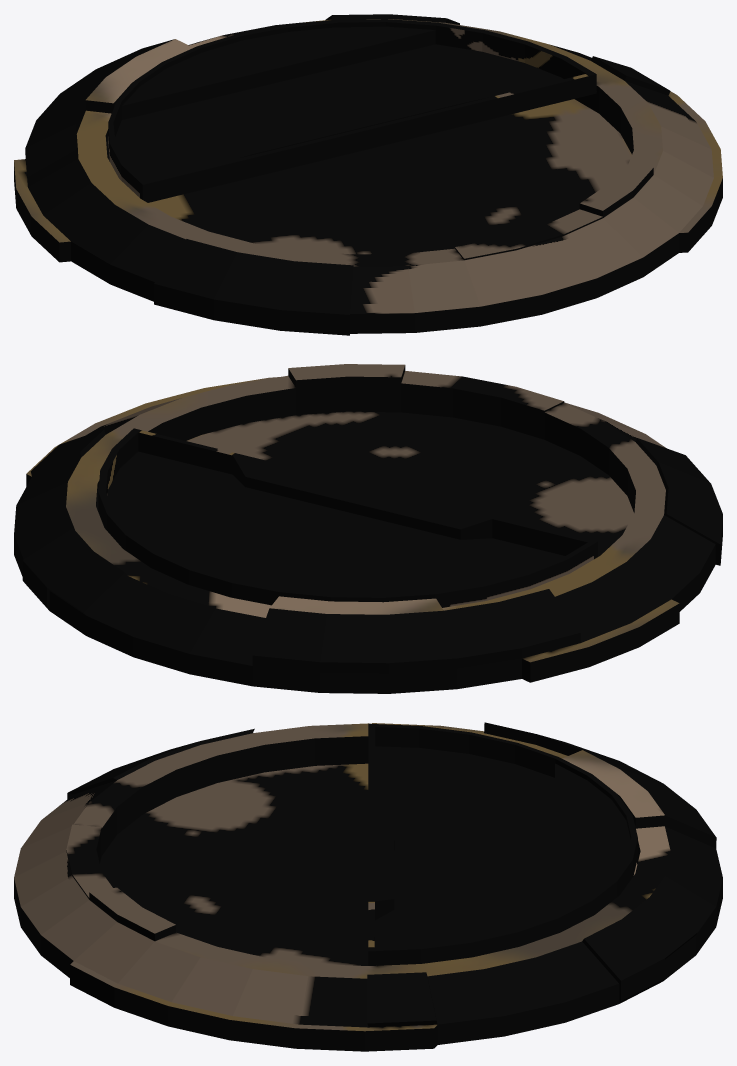
File: Keypad base.glb
3 renders of one model, top to bottom at view 1: azimuth 30°, elevation 25°; view 2: azimuth 150°, elevation 25°; view 3: azimuth 270°, elevation 25°, orthographic. The views are drawn at different scales.
Parts seen in each view (by area): view 1: keypad base, Keypad screen, Plane; view 2: keypad base, Keypad screen, Plane; view 3: keypad base, Plane, Keypad screen.
Boxes of the visible parts, x1,y1,x2,y2 form: keypad base: (14, 14, 722, 335); Keypad screen: (108, 19, 596, 202); Plane: (106, 44, 596, 180); keypad base: (14, 364, 722, 693); Keypad screen: (98, 428, 597, 607); Plane: (96, 451, 564, 592); keypad base: (14, 722, 722, 1051); Plane: (375, 746, 554, 947); Keypad screen: (368, 723, 637, 965).
Bounding box in the file's own units: 1.42 × 0.13 × 1.38.
Materials: 2 (1 with a texture image).
